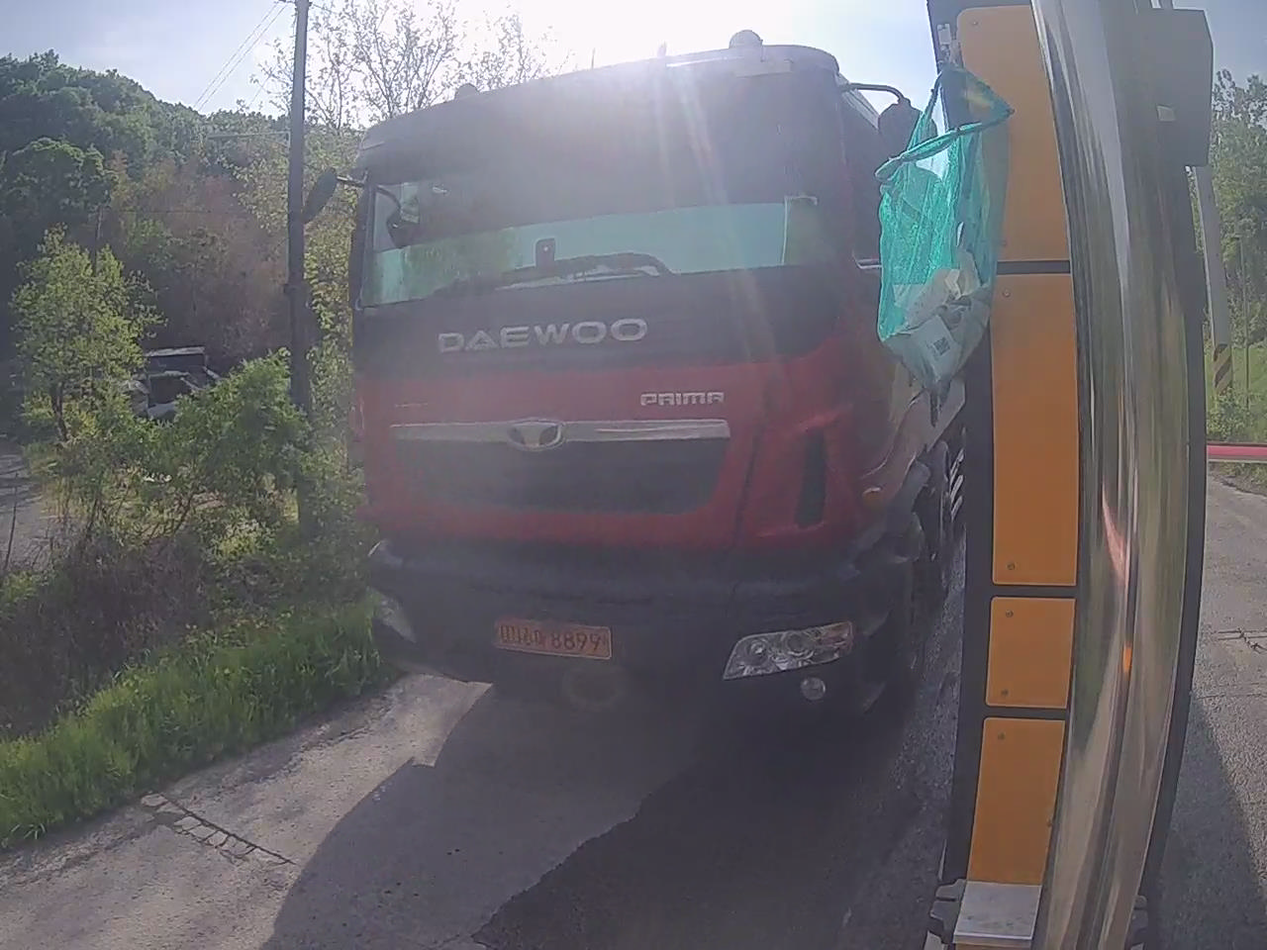license_plate: (495, 620, 611, 659)
truck: (341, 33, 963, 709)
